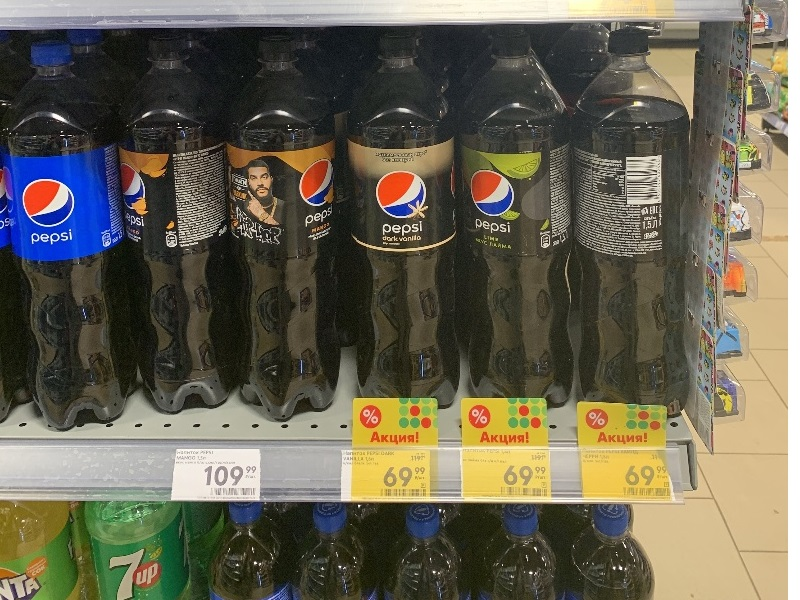lemonade: (1, 28, 149, 443), (565, 27, 703, 433), (117, 37, 255, 430), (459, 30, 593, 430), (340, 32, 474, 423), (230, 39, 361, 420)
